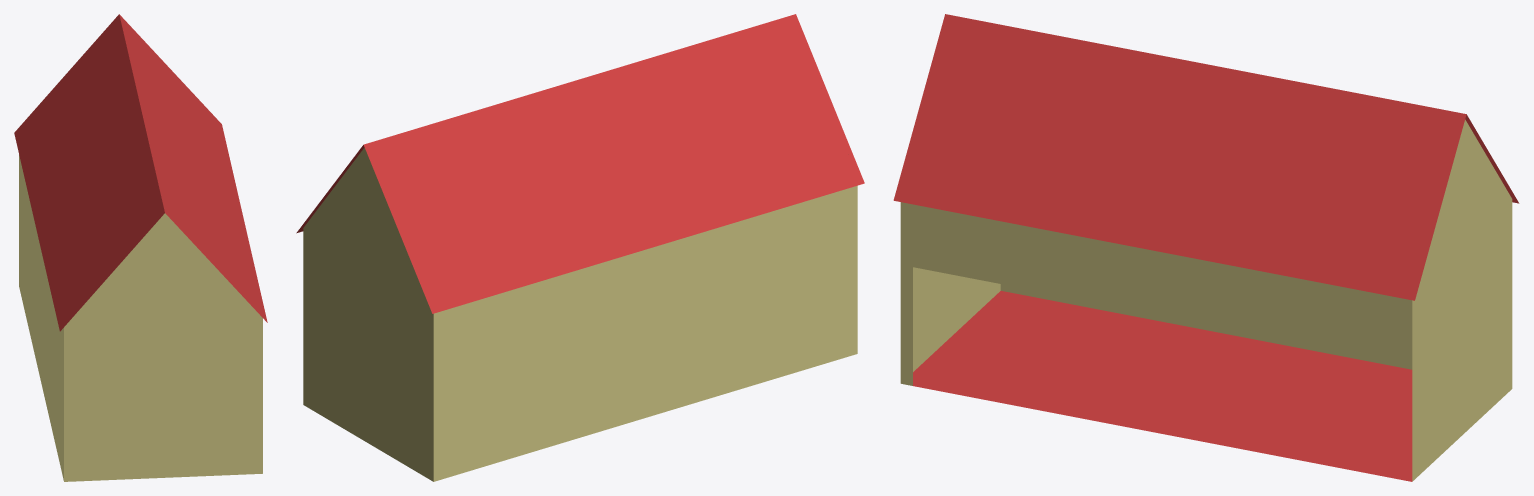
3 renders of one model, left to right at view 1: azimuth 30°, elevation 25°; view 2: azimuth 150°, elevation 25°; view 3: azimuth 270°, elevation 25°, orthographic. The views are drawn at different scales.
Size of the model in its own units: 21.23 by 28.45 by 16.19.
